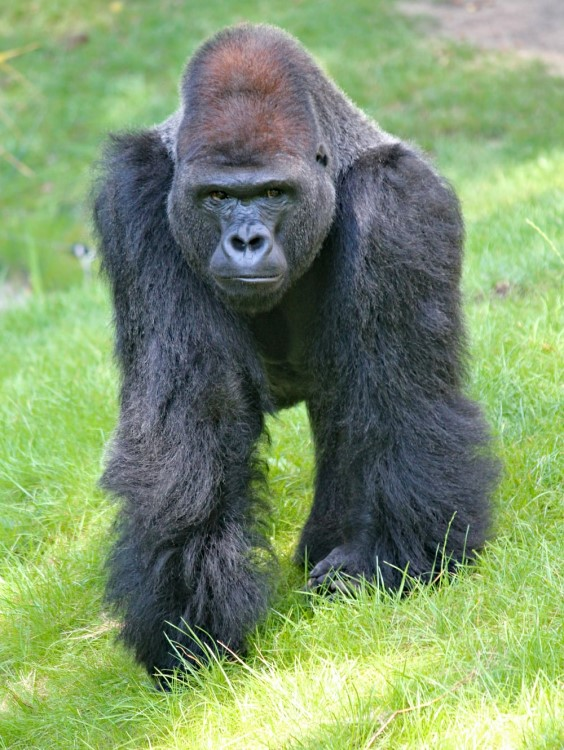Gorilla: (95, 16, 506, 631)
